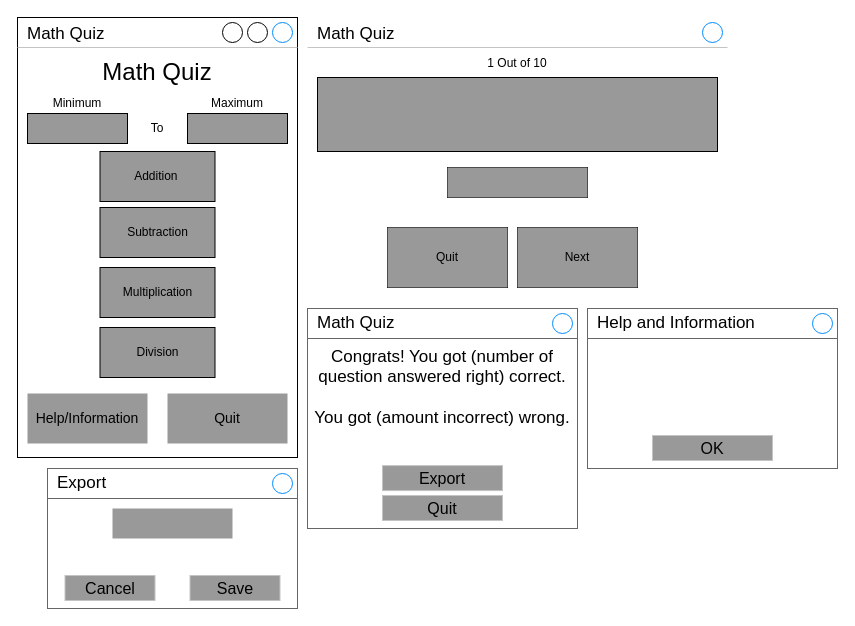
Image size: 855x626. Some labels were removed from this diagram. The shapes that lost their labels are listed below. From the top down, each one's box as (x1, y1, x2, y2) in pixels, then its label:
(316, 76, 718, 152): Question (Addition, Multiplication or Division based question)
(447, 167, 587, 197): Answer Here:
(586, 308, 838, 468): Help Text Goes Here
(112, 508, 232, 538): File Name:
